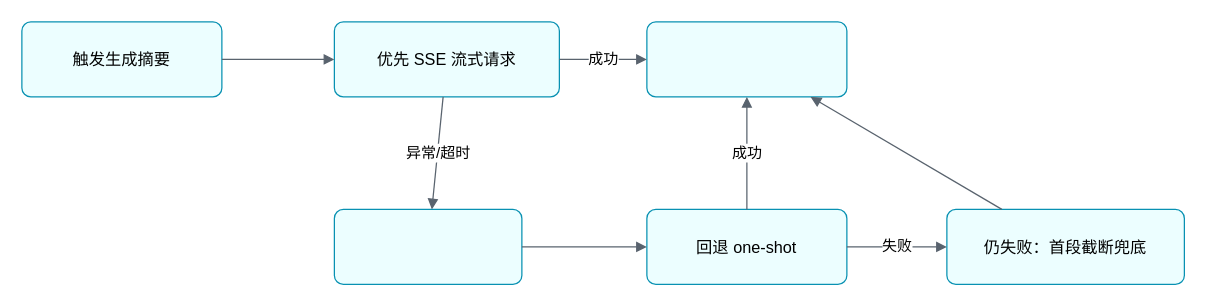
The diagram is 1206 pixels wide and 306 high, and some of its shapes have lost their labels. The shapes that lost their labels are listed below. From the top down, each one's centre as x and y in pixels, then its label:
At [746,59]: "逐字展示结果".
At [427,246]: "流式失败".
